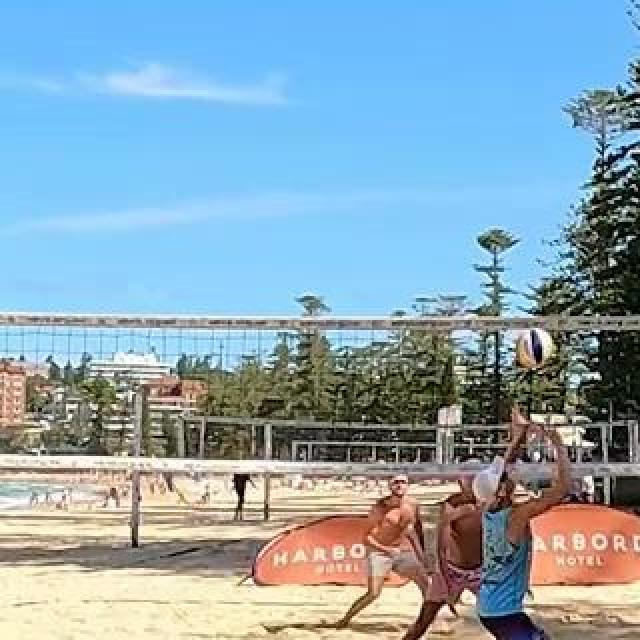volleyball: (515, 329, 555, 369)
